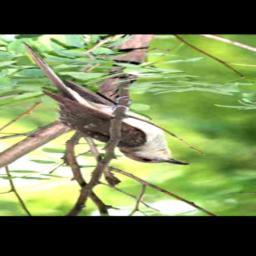Cuckoo: (21, 42, 190, 166)
